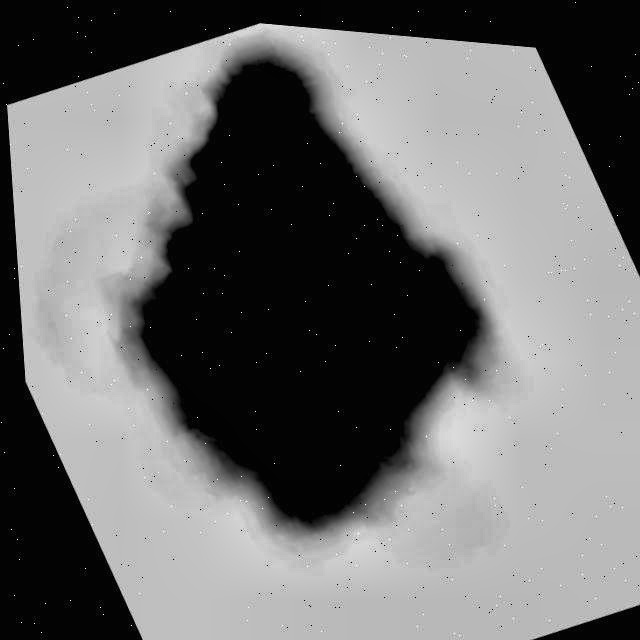Smoke: (34, 2, 556, 584)
